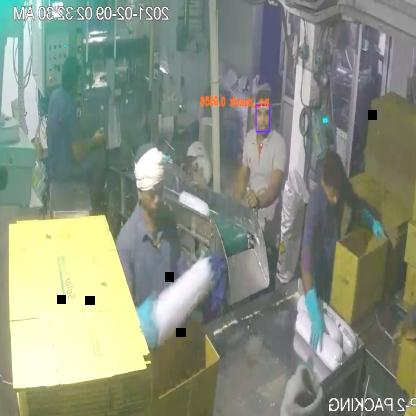glove: (299, 270, 338, 360), (348, 206, 388, 250)
no_glove: (66, 112, 109, 172), (246, 159, 286, 220), (228, 149, 253, 204)
